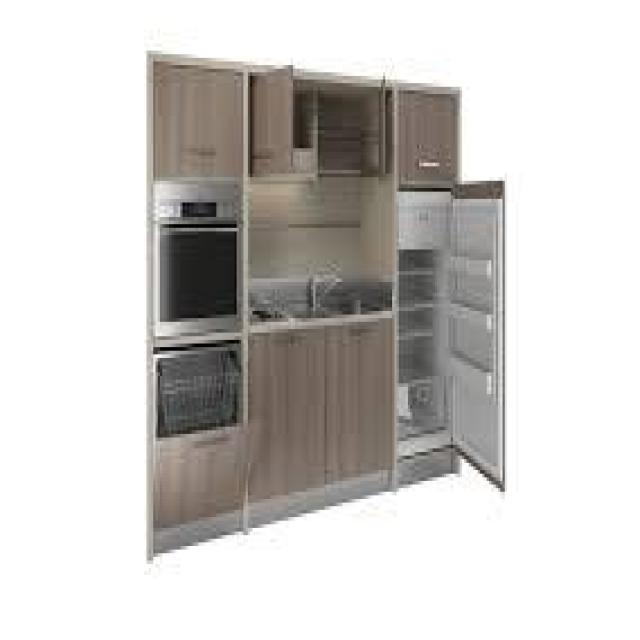dishwasher: (149, 340, 241, 521)
